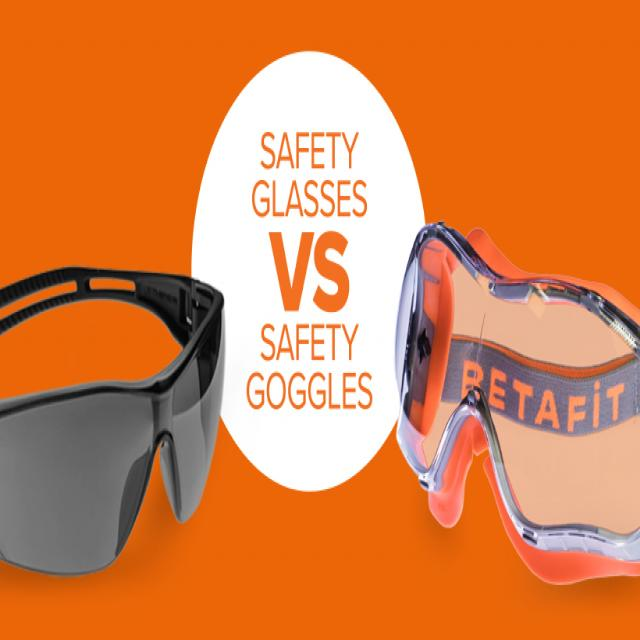Protective Glasses: (397, 192, 640, 595), (2, 260, 225, 569)
